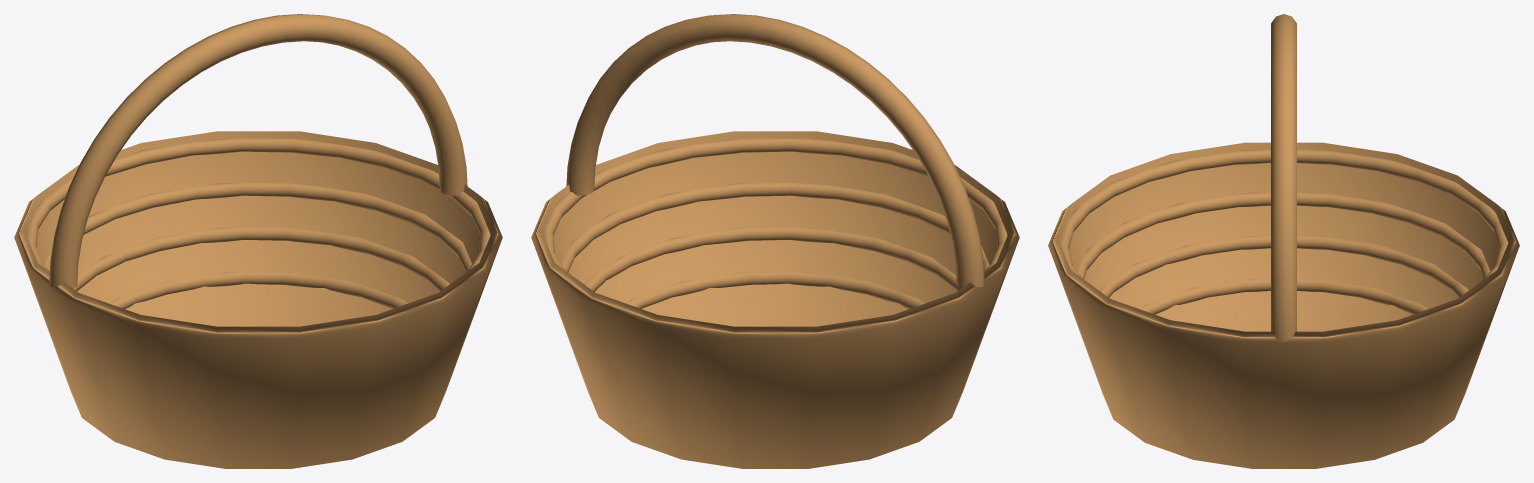
File: harvest-basket.glb
The picture shows the model from 3 angles, left to right: view 1: azimuth 30°, elevation 25°; view 2: azimuth 150°, elevation 25°; view 3: azimuth 270°, elevation 25°; orthographic projection. The views are drawn at different scales.
Parts seen in each view (by area): view 1: harvest-basket-wicker, handle-wicker; view 2: harvest-basket-wicker, handle-wicker; view 3: harvest-basket-wicker, handle-wicker.
Part boxes in pixels (x1,y1,x2,y2): harvest-basket-wicker: (14,131,502,468); handle-wicker: (49,14,467,288); harvest-basket-wicker: (531,131,1019,468); handle-wicker: (566,14,984,288); harvest-basket-wicker: (1048,142,1519,468); handle-wicker: (1271,14,1296,341).
Bounding box in the file's own units: 0.5121 × 0.435 × 0.52.
